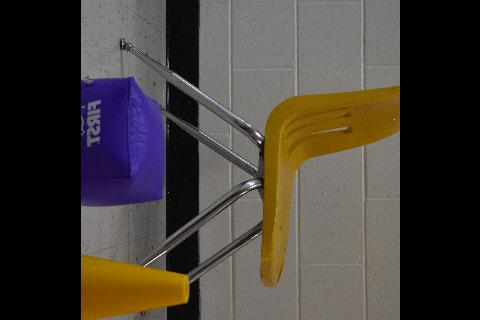cone: (80, 254, 188, 320)
cube: (80, 76, 166, 208)
